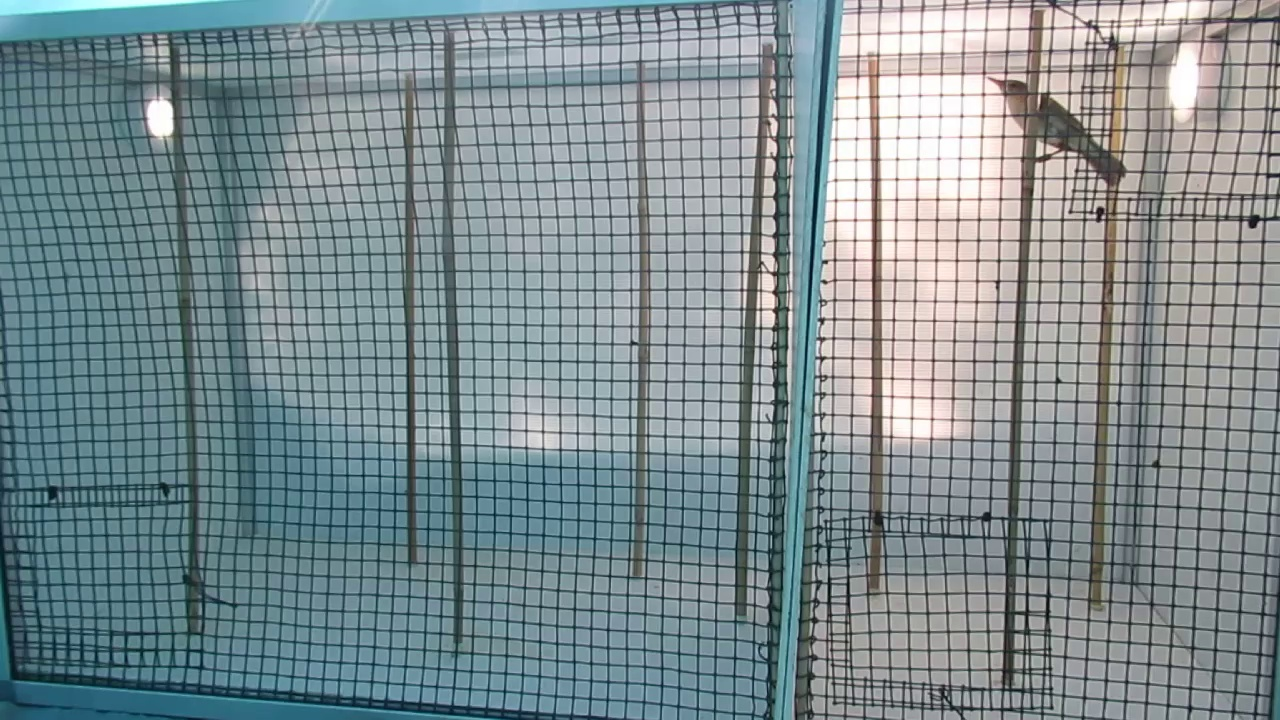bird: (983, 74, 1133, 191)
stick: (1002, 13, 1044, 684), (733, 46, 777, 617), (1089, 45, 1128, 605), (431, 37, 465, 643), (169, 49, 204, 630), (866, 59, 886, 588), (634, 62, 654, 577), (401, 78, 421, 564)
